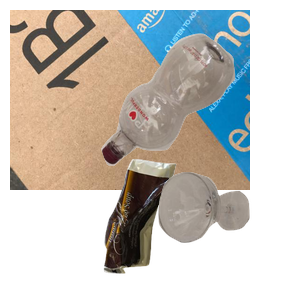cardboard: (10, 10, 250, 190)
glass: (156, 170, 300, 300)
plastic: (99, 31, 300, 189)
trash: (101, 157, 270, 300)
